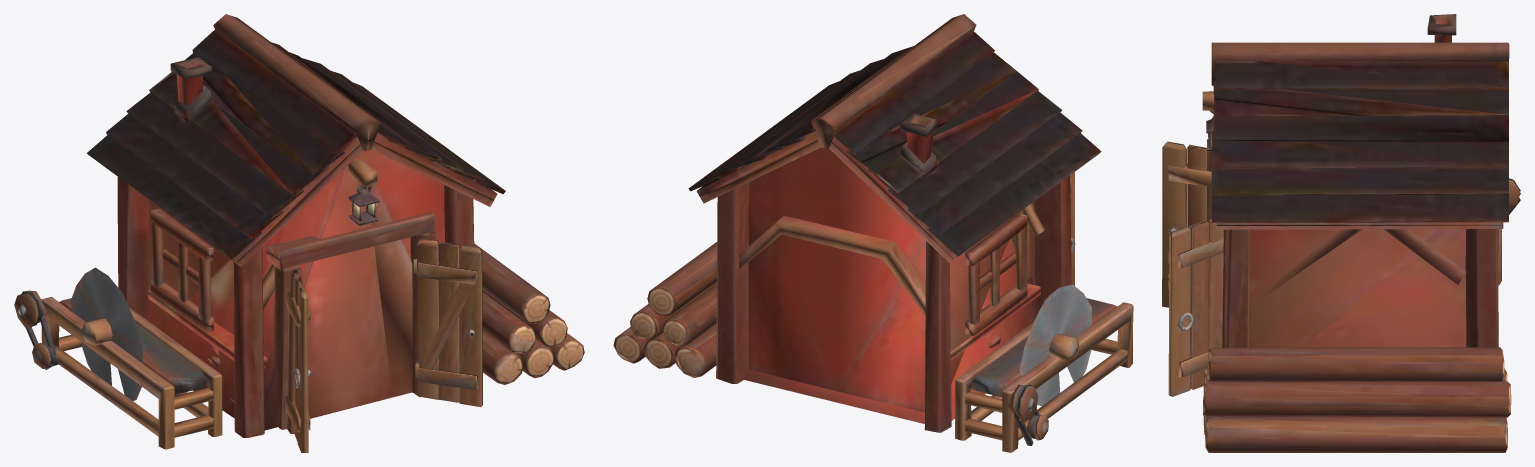
File: sawmill.glb
The picture shows the model from 3 angles, left to right: view 1: azimuth 30°, elevation 25°; view 2: azimuth 150°, elevation 25°; view 3: azimuth 270°, elevation 25°; orthographic projection. The views are drawn at different scales.
Size of the model in its own units: 0.9497 by 0.6416 by 0.6739.
Materials: 1 (1 with a texture image).
